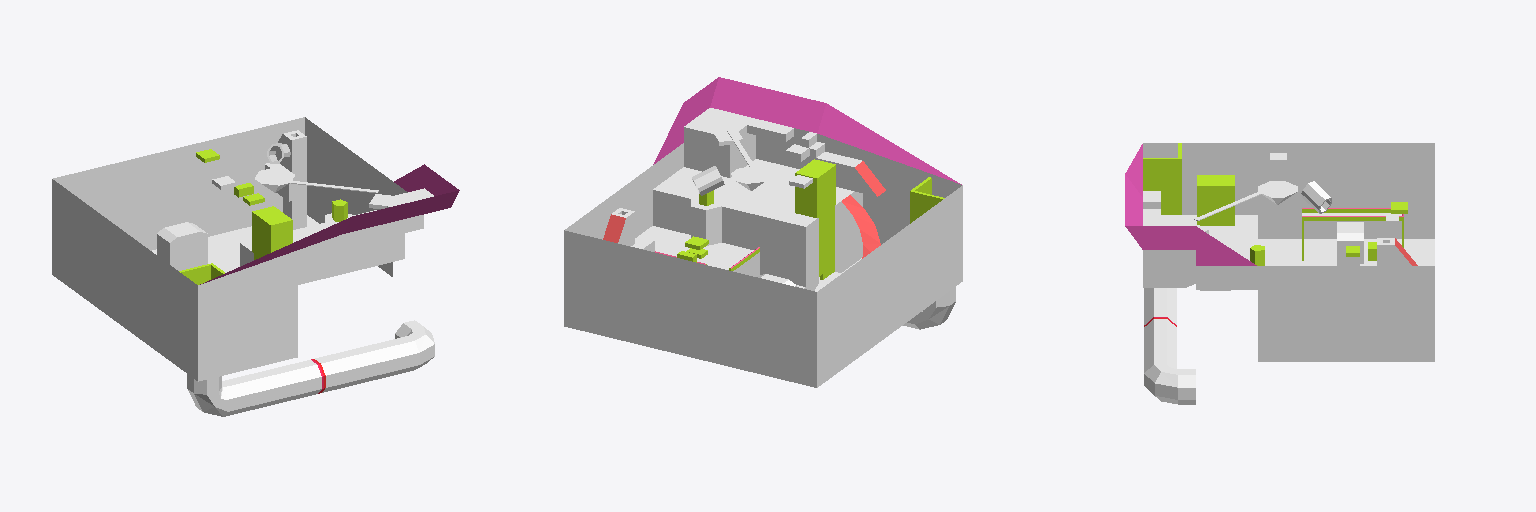
The model's file is Wet Dry World Area 1.obj.
The picture shows the model from 3 angles: view 1: azimuth 30°, elevation 25°; view 2: azimuth 150°, elevation 25°; view 3: azimuth 270°, elevation 25°; orthographic projection.
Size of the model in its own units: 16894 by 11696 by 17918.